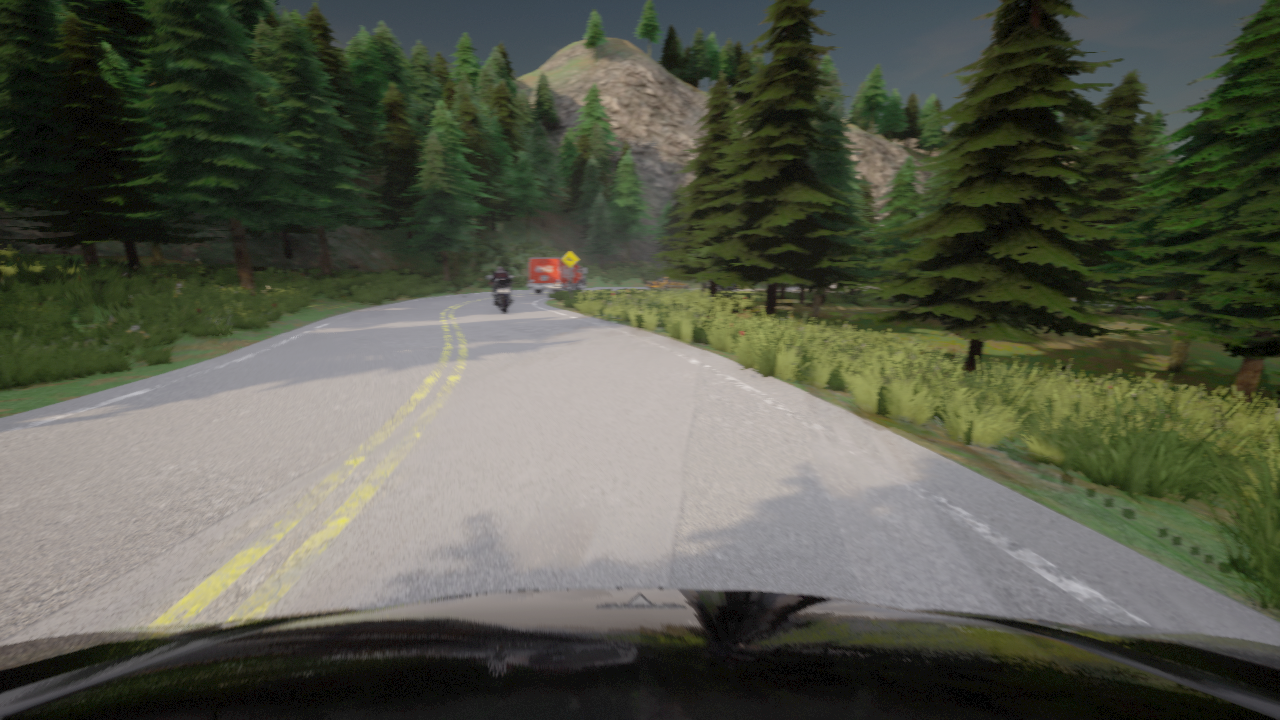cyclist: (0, 588, 1279, 719), (528, 258, 586, 293), (488, 276, 513, 312), (646, 276, 690, 289), (706, 282, 737, 290), (583, 276, 586, 285)
